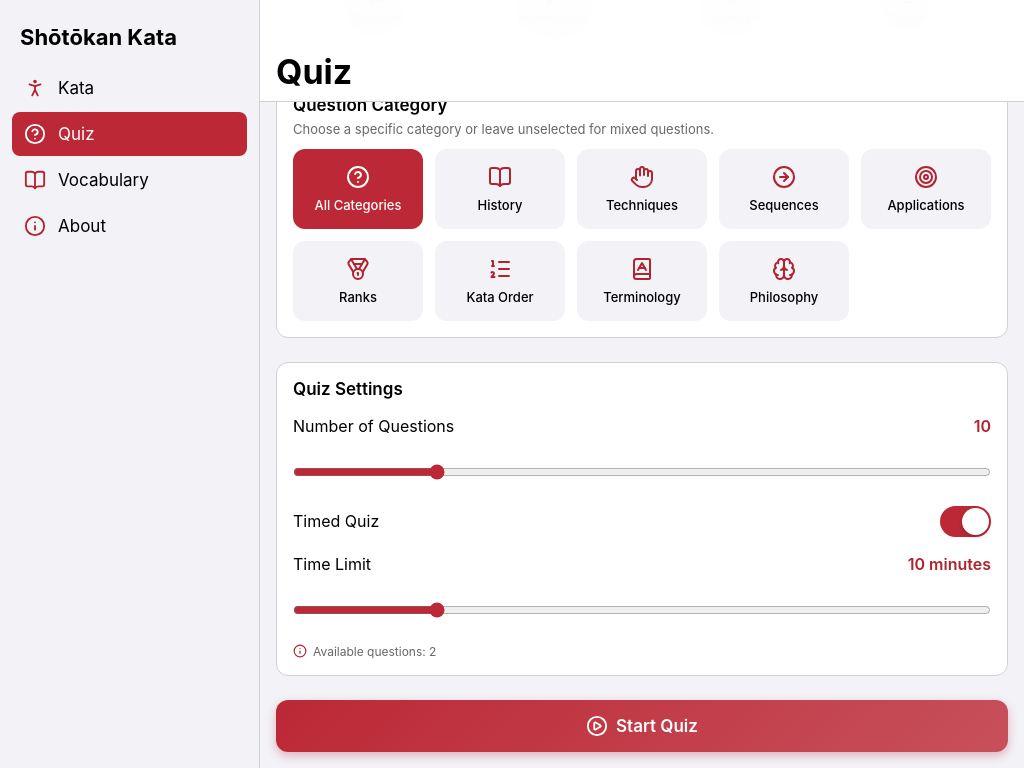
Test case: starts a quiz full screen and exits back to the quiz menu
This screenshot has width=1024, height=768.
(page scrolled)
Click the button "Start Quiz": click(642, 726) [276,700,1008,752]
(page scrolled)
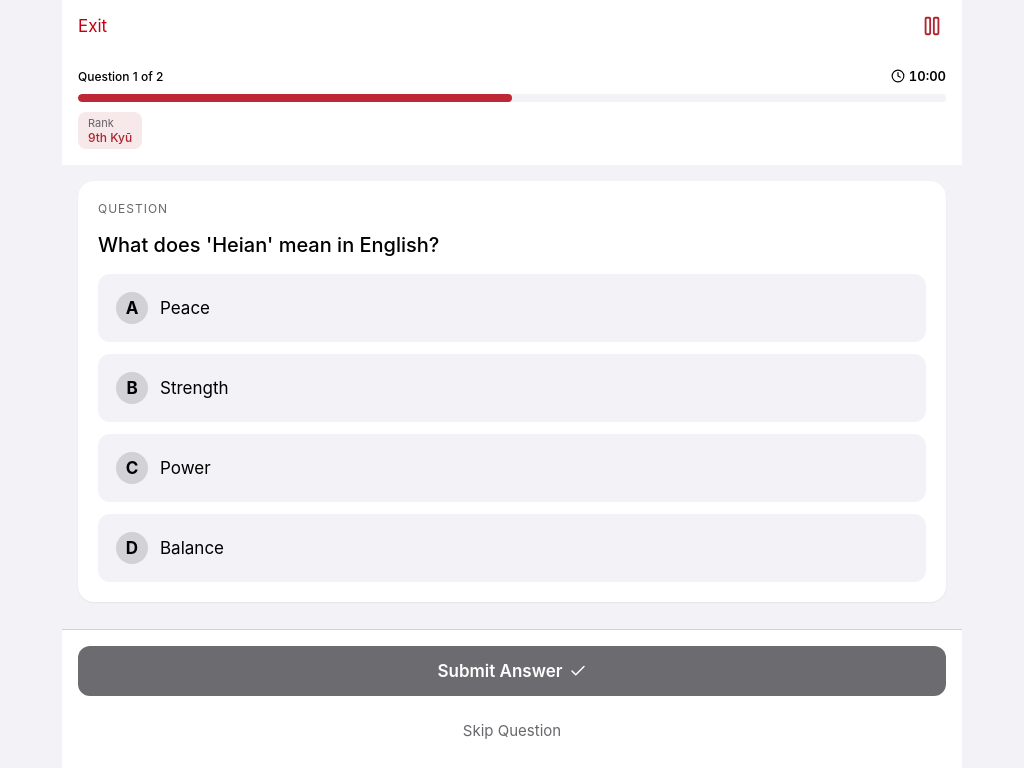
Expected: the text "Question 1 of 2" is shown, [78,68,163,84]
Expected: the navigation bar is gone
Click the button "Exit": click(93, 26) [70,4,115,48]
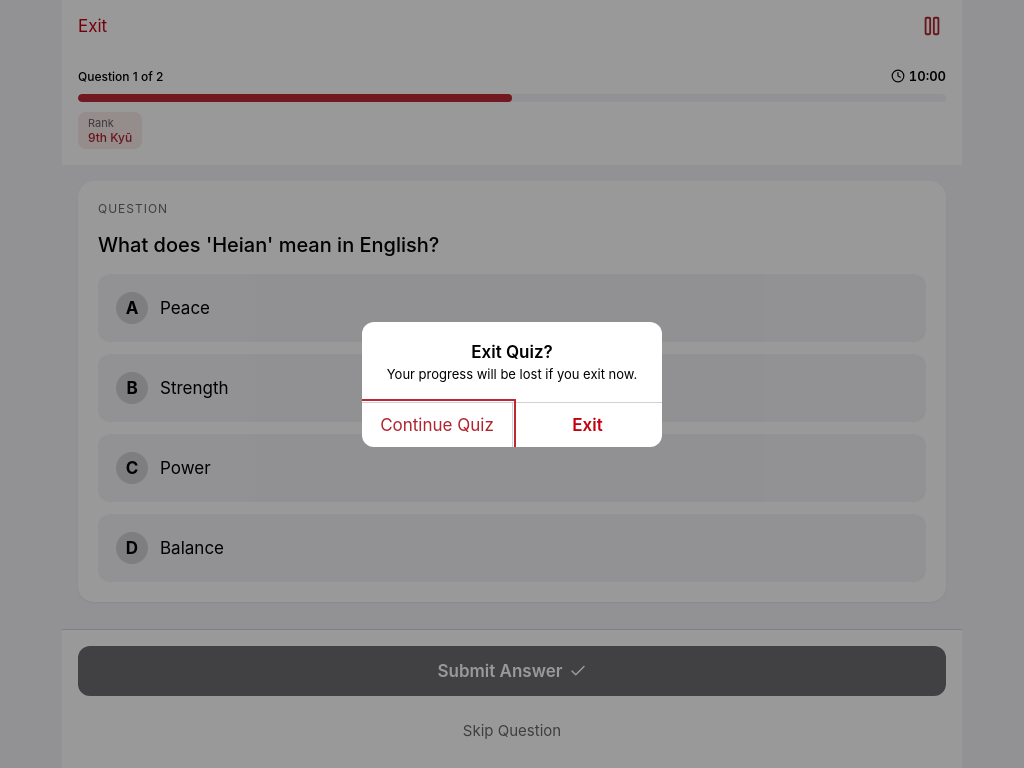
Click the button "Exit": click(587, 424) [512,402,662,446]
(page scrolled)
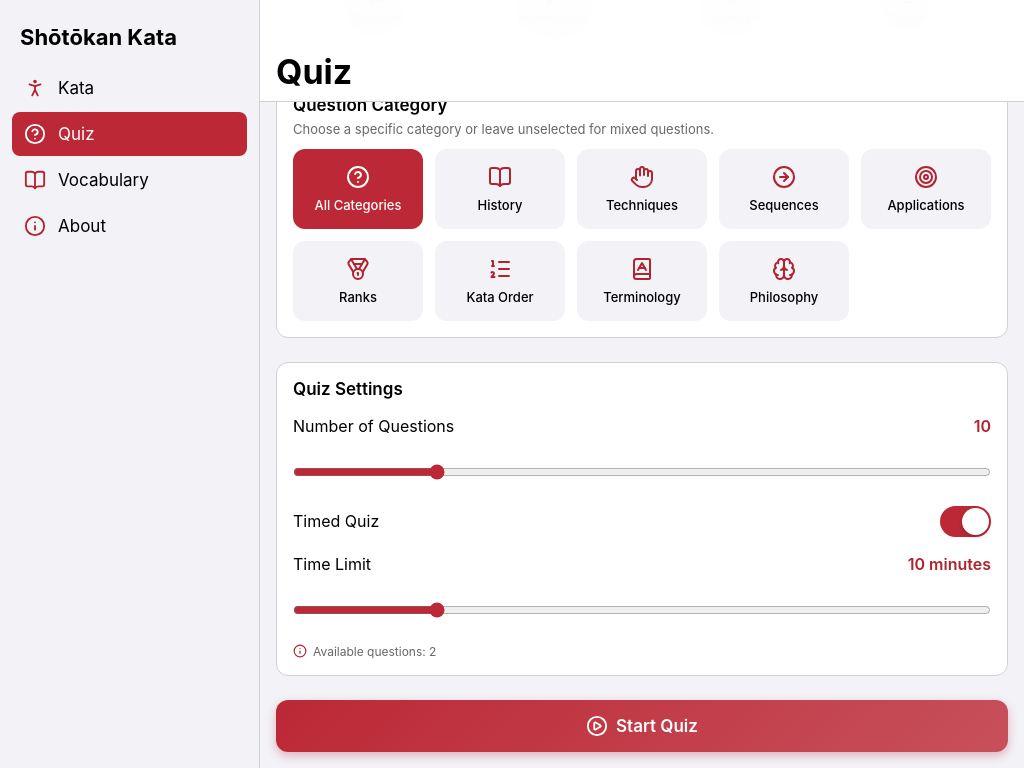
Expected: the text "Available questions: 2" is shown, [293,644,436,659]
